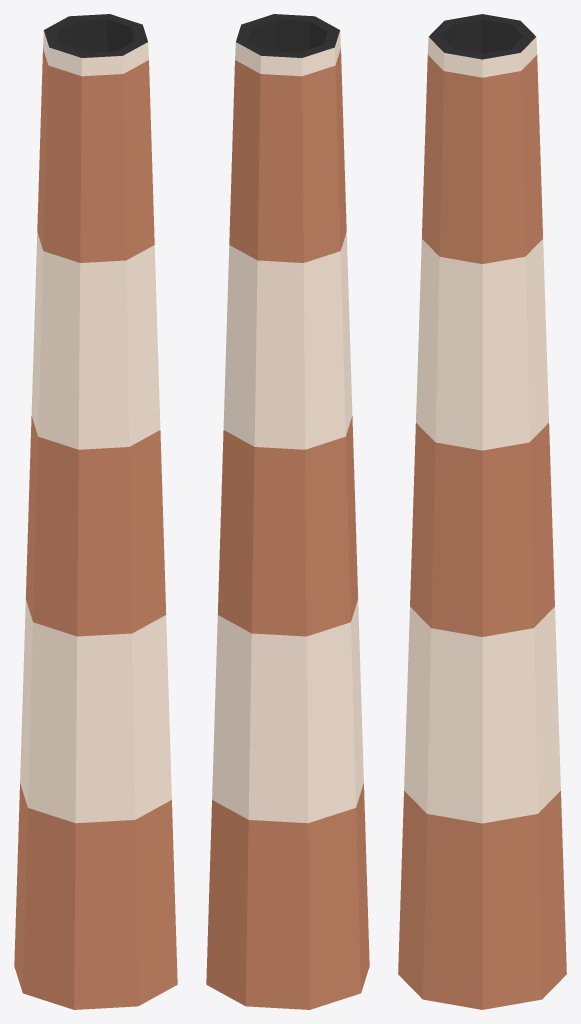
The model's file is chimney-big.glb.
3 views of the same model, side by side, from view 1: azimuth 30°, elevation 25°; view 2: azimuth 150°, elevation 25°; view 3: azimuth 270°, elevation 25° (orthographic).
Parts seen in each view (by area): view 1: chimney-big; view 2: chimney-big; view 3: chimney-big.
Boxes of the visible parts, bbox=[...] form: chimney-big: bbox=[14, 14, 177, 1009]; chimney-big: bbox=[206, 14, 369, 1009]; chimney-big: bbox=[398, 14, 566, 1009].
Bounding box in the file's own units: 3 × 18.39 × 3.
Materials: 1 (1 with a texture image).
